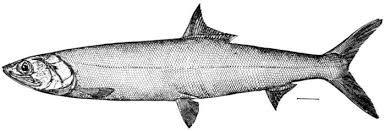Tenpounder: (1, 3, 385, 131)
